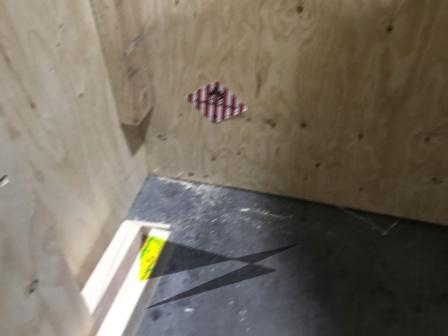flammable-solid: (183, 81, 249, 124)
